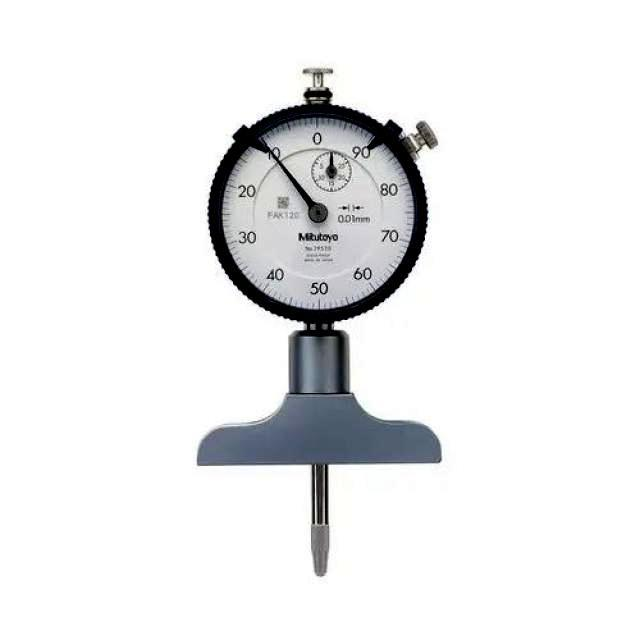Needle_Tip: (259, 139, 283, 165)
Needle_base: (304, 197, 333, 229)
max_value: (345, 141, 378, 166)
min_value: (308, 127, 329, 153)
